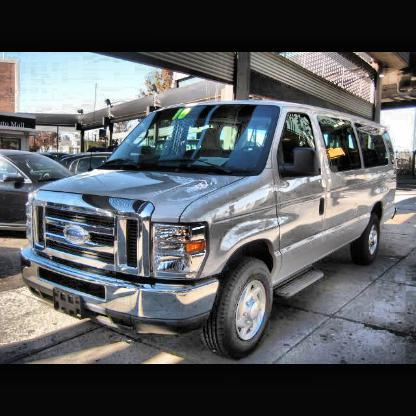Ford E-Series Wagon Van 2012: (19, 96, 404, 360)
